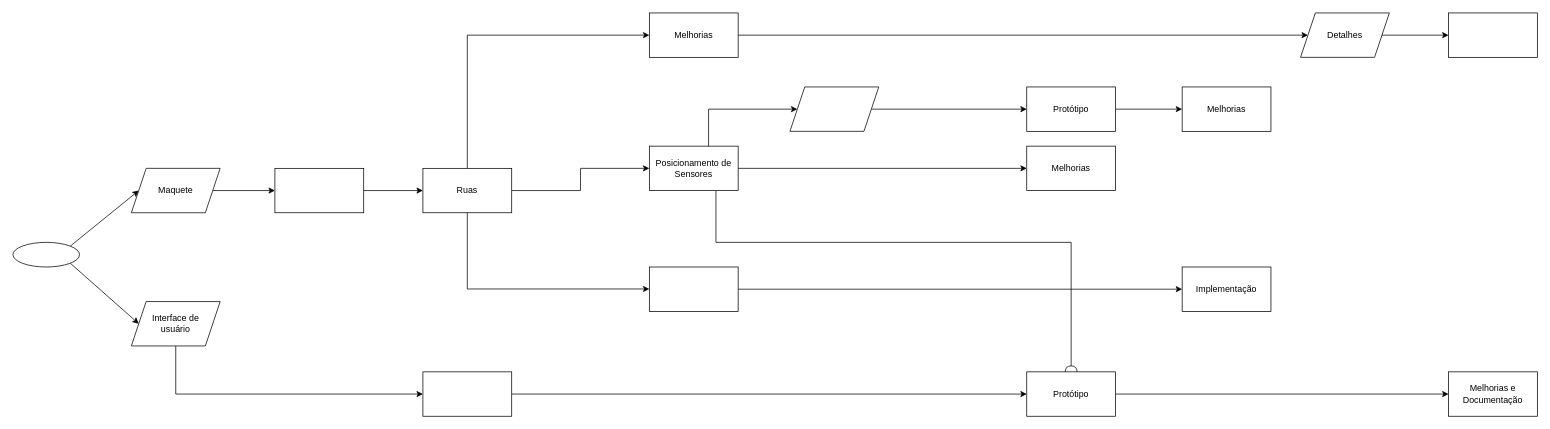
Some shapes in this 1550 by 429 pixel diagram are drawn without their labels. Each missing label, with the centre of its shape:
"Ambiente, Estético, etc." goes at point 1492,34.
"Base" goes at point 319,190.
"Esboço" goes at point 467,393.
"Início" goes at point 46,254.
"Posicionamento de Placas de Sinalização" goes at point 693,288.
"Semáforo inteligente" goes at point 834,108.
